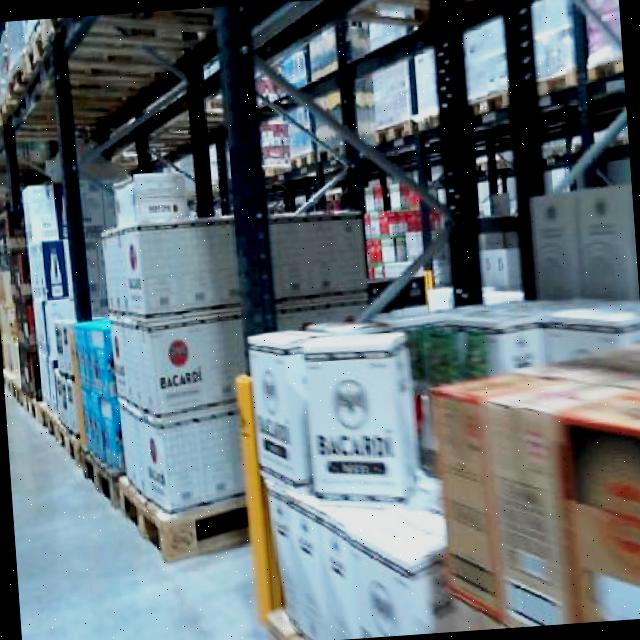pallet: (0, 195, 390, 569), (422, 336, 640, 631), (0, 5, 253, 161)
